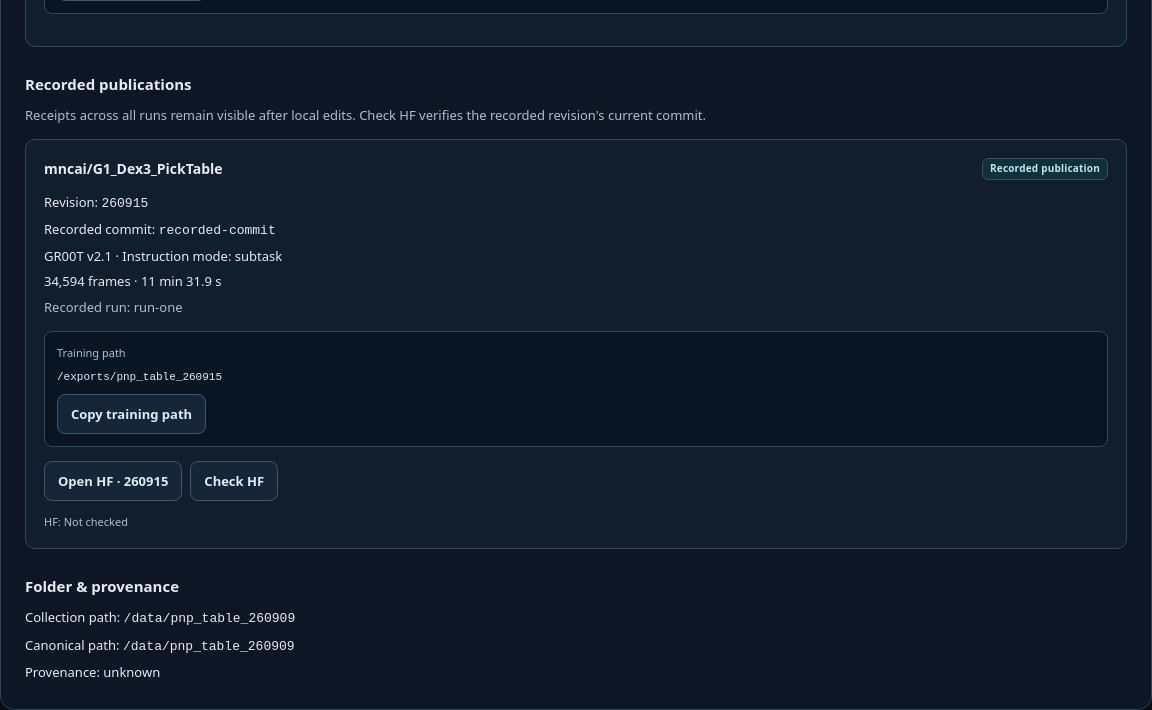
Test: clipboard errors provide accessible manual-copy guidance
This screenshot has width=1152, height=710.
(page scrolled)
Click the button with aria-label "Copy training path for publication publication": (132, 414) [57, 394, 206, 434]
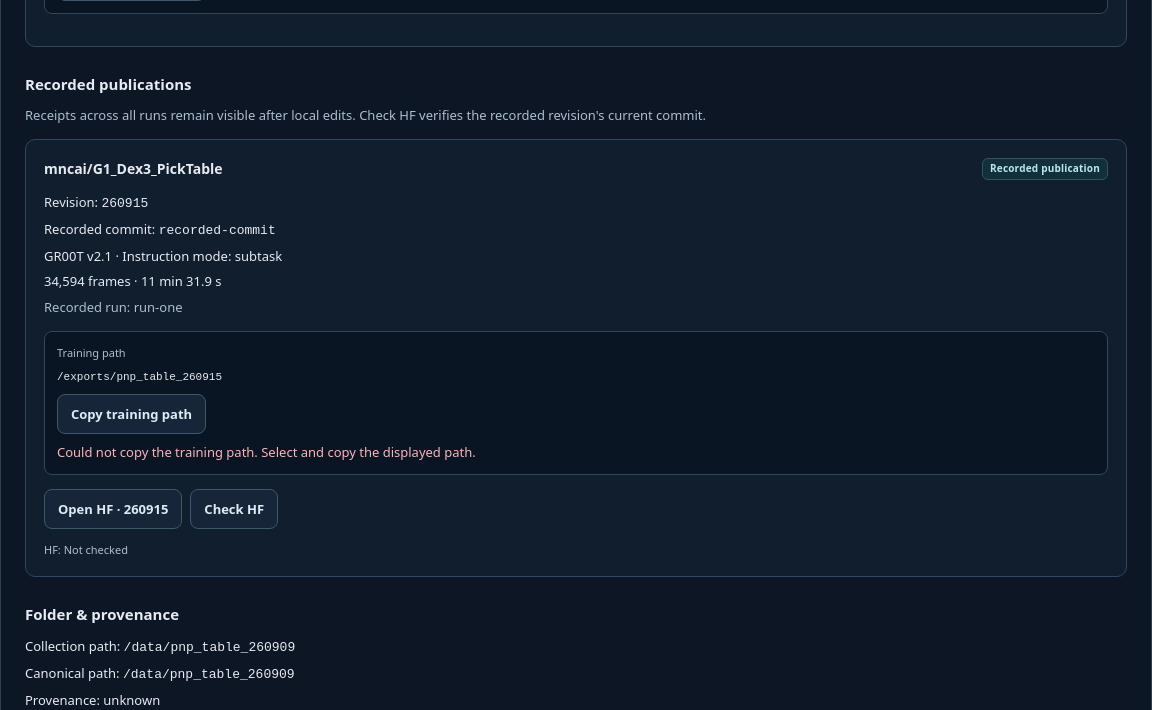
Expected: the message "Could not copy the training path. Select and copy the displayed path." is shown, [57, 442, 476, 462]
